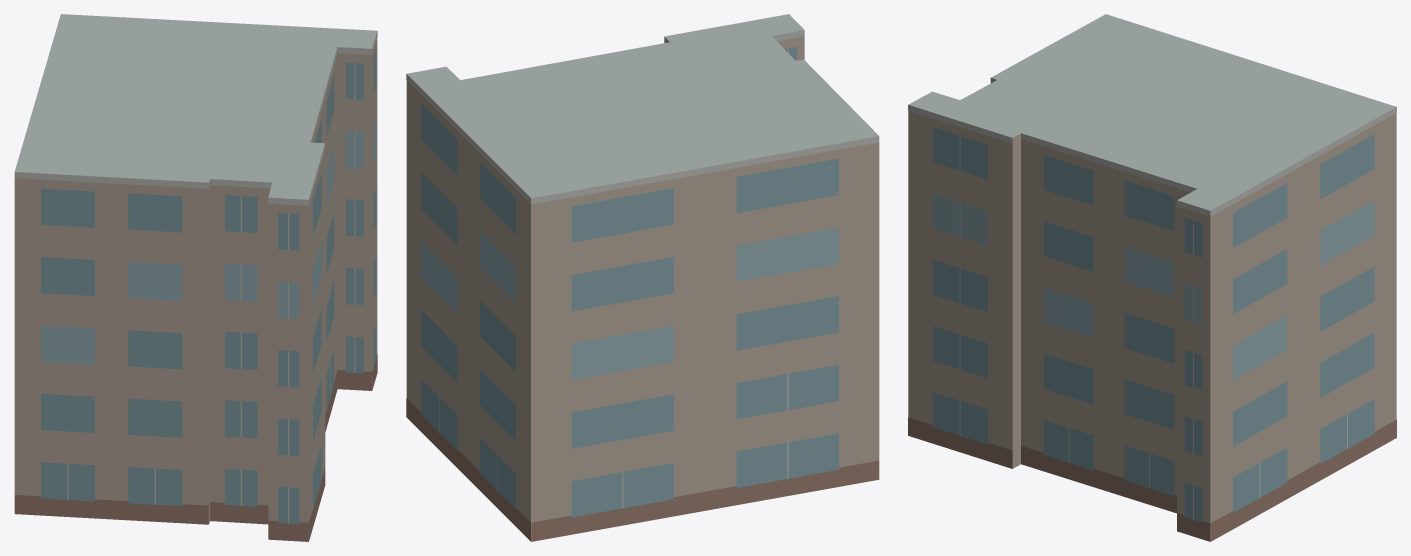
The model's file is survey-upis-32632072.glb.
3 renders of one model, left to right at view 1: azimuth 30°, elevation 25°; view 2: azimuth 150°, elevation 25°; view 3: azimuth 270°, elevation 25°, orthographic. The views are drawn at different scales.
Parts seen in each view (by area): view 1: survey-upis-32632072.tmp; view 2: survey-upis-32632072.tmp; view 3: survey-upis-32632072.tmp.
Boxes of the visible parts, x1,y1,x2,y2 form: survey-upis-32632072.tmp: [14, 14, 377, 541]; survey-upis-32632072.tmp: [406, 14, 879, 541]; survey-upis-32632072.tmp: [908, 14, 1396, 541].
Size of the model in its own units: 17.29 by 13.55 by 18.13.
